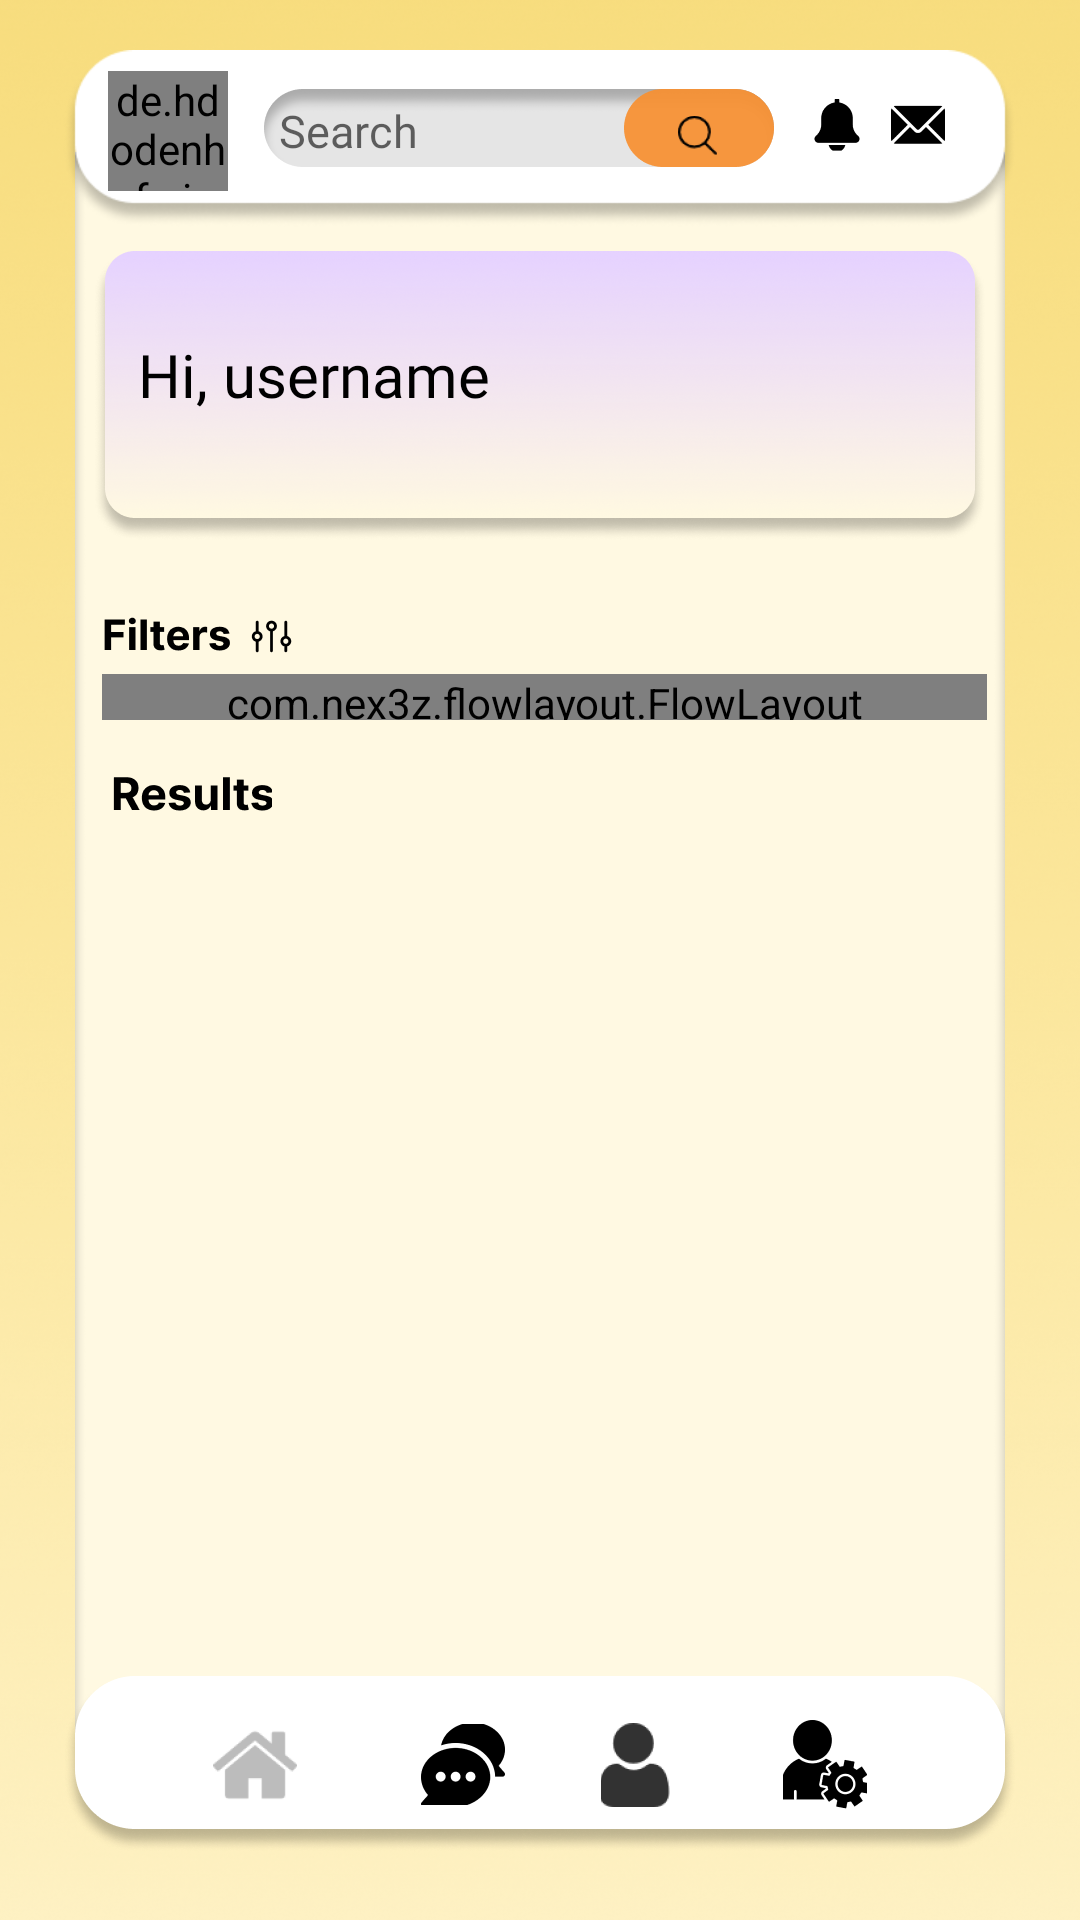

Screen size 1080w x 1920h. Icon name, then its center in pixels as (x=x, y=y):
chaticon: (x=463, y=1764)
homeiconpressed: (x=255, y=1765)
user: (x=635, y=1765)
userset: (x=825, y=1764)
